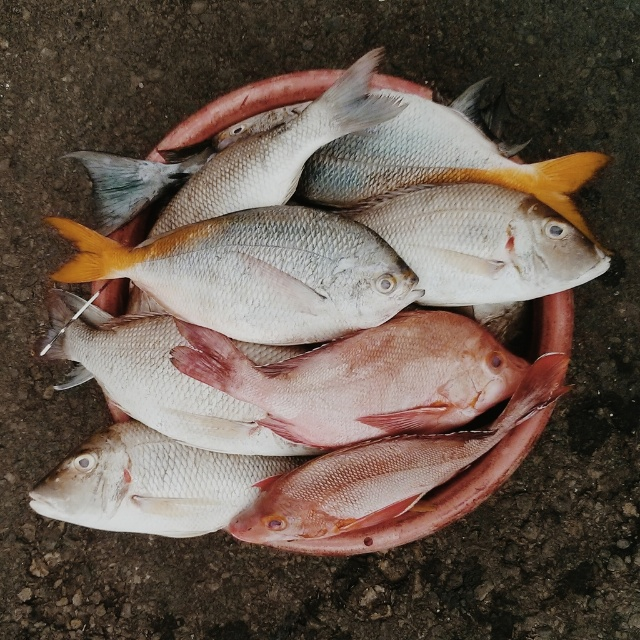Fish: (27, 47, 612, 545)
